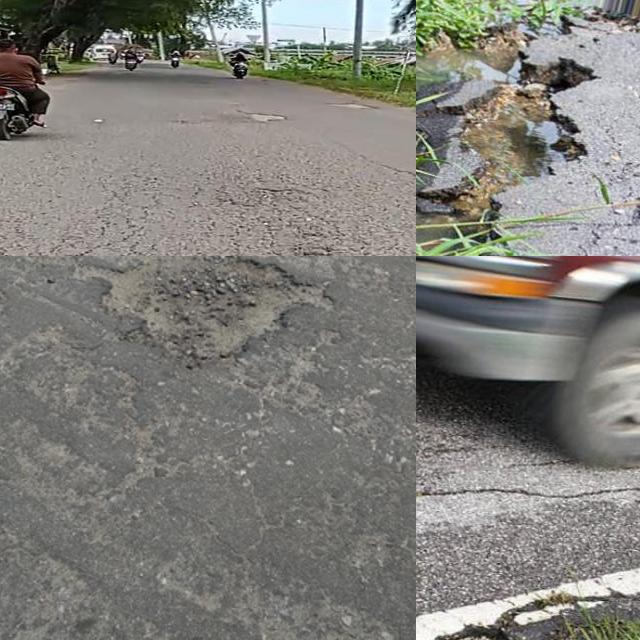Lubang: (90, 256, 325, 360)
Pinggir: (416, 15, 589, 256)
